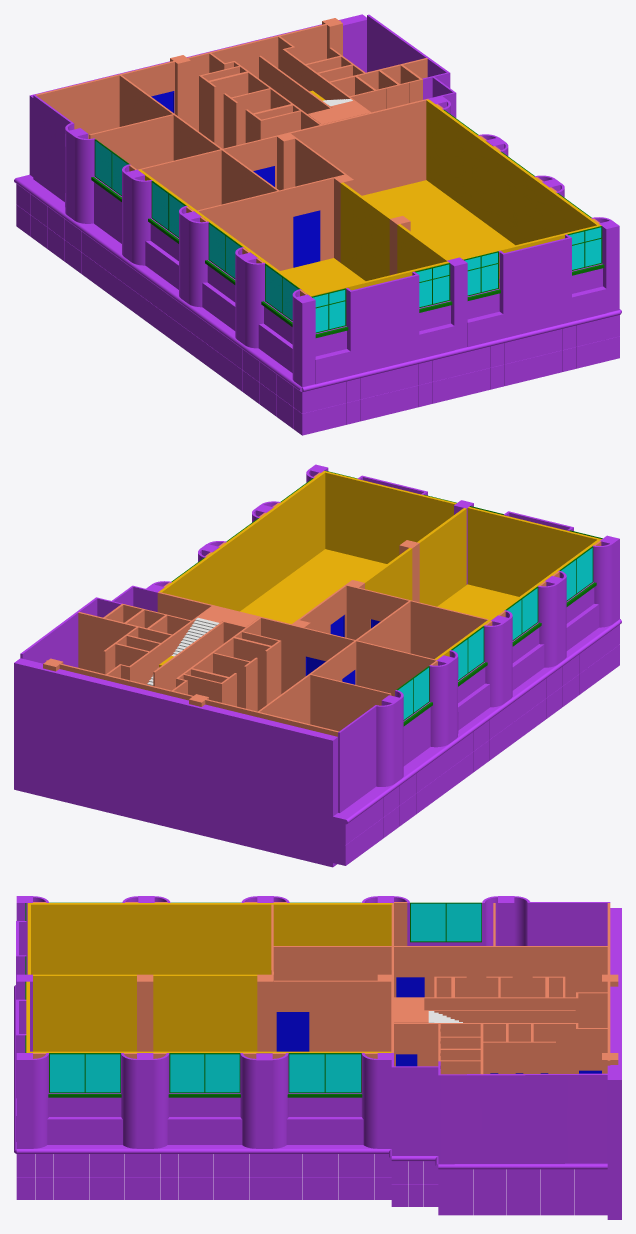
3 renders of one model, top to bottom at view 1: azimuth 30°, elevation 25°; view 2: azimuth 150°, elevation 25°; view 3: azimuth 270°, elevation 25°, orthographic. The views are drawn at different scales.
Parts seen in each view (by area): view 1: 物件_117, 物件_255, 物件_369, 物件_2, 物件_377, 物件_370, 物件_102, 物件_99, 物件_532, 物件_156, 物件_151, 物件_127 (+55 smaller); view 2: 物件_536, 物件_117, 物件_116, 物件_115, 物件_369, 物件_2, 物件_100, 物件_532, 物件_408, 物件_127, 物件_102, 物件_123 (+37 smaller); view 3: 物件_114, 物件_133, 物件_99, 物件_100, 物件_124, 物件_108, 物件_2, 物件_125, 物件_306, 物件_1, 物件_536, 物件_408 (+45 smaller).
Boxes of the visible parts, box(x1,y1,x2,y2) form: 物件_117: box(426, 99, 601, 245); 物件_255: box(289, 98, 428, 195); 物件_369: box(280, 180, 514, 294); 物件_2: box(199, 61, 310, 148); 物件_377: box(346, 271, 419, 375); 物件_370: box(498, 234, 571, 338); 物件_102: box(197, 188, 291, 270); 物件_99: box(340, 182, 391, 280); 物件_532: box(14, 174, 302, 391); 物件_156: box(35, 68, 146, 138); 物件_151: box(187, 24, 326, 131); 物件_127: box(137, 143, 245, 210); 物件_536: box(14, 658, 337, 867); 物件_117: box(159, 471, 326, 611); 物件_116: box(325, 471, 456, 563); 物件_115: box(467, 506, 598, 596); 物件_369: box(240, 549, 518, 623); 物件_2: box(176, 625, 281, 711); 物件_100: box(417, 508, 466, 606); 物件_532: box(333, 619, 621, 824); 物件_408: box(338, 706, 376, 812); 物件_127: box(333, 635, 436, 696); 物件_102: box(398, 597, 488, 658); 物件_123: box(310, 674, 391, 731); 物件_114: box(27, 903, 392, 974); 物件_133: box(440, 1073, 607, 1164); 物件_99: box(153, 974, 257, 1051); 物件_100: box(33, 974, 136, 1051); 物件_124: box(427, 946, 607, 997); 物件_108: box(312, 980, 377, 1051); 物件_2: box(417, 976, 578, 1022); 物件_125: box(273, 946, 391, 980); 物件_306: box(394, 1066, 438, 1155); 物件_1: box(417, 1023, 578, 1073); 物件_536: box(607, 908, 621, 1219); 物件_408: box(530, 902, 610, 945).
Bounding box in the file's own units: 1186 × 442 × 1677.
